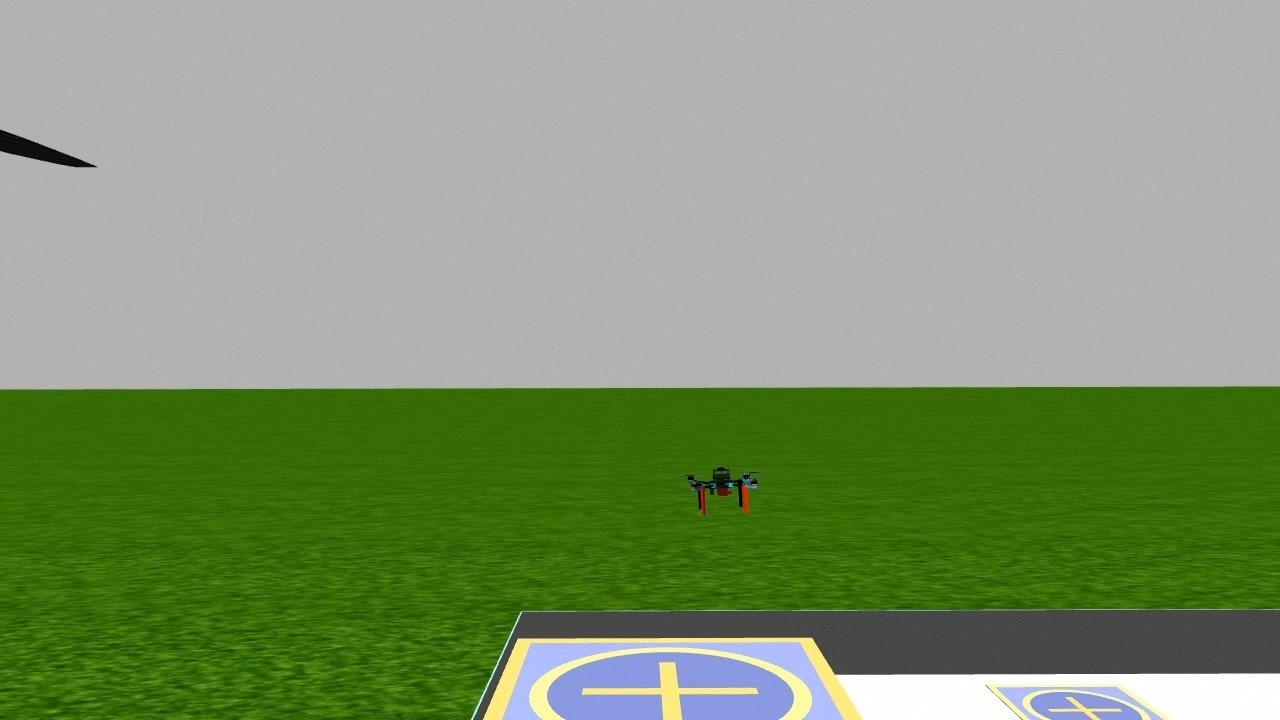UAV: (674, 448, 770, 529)
